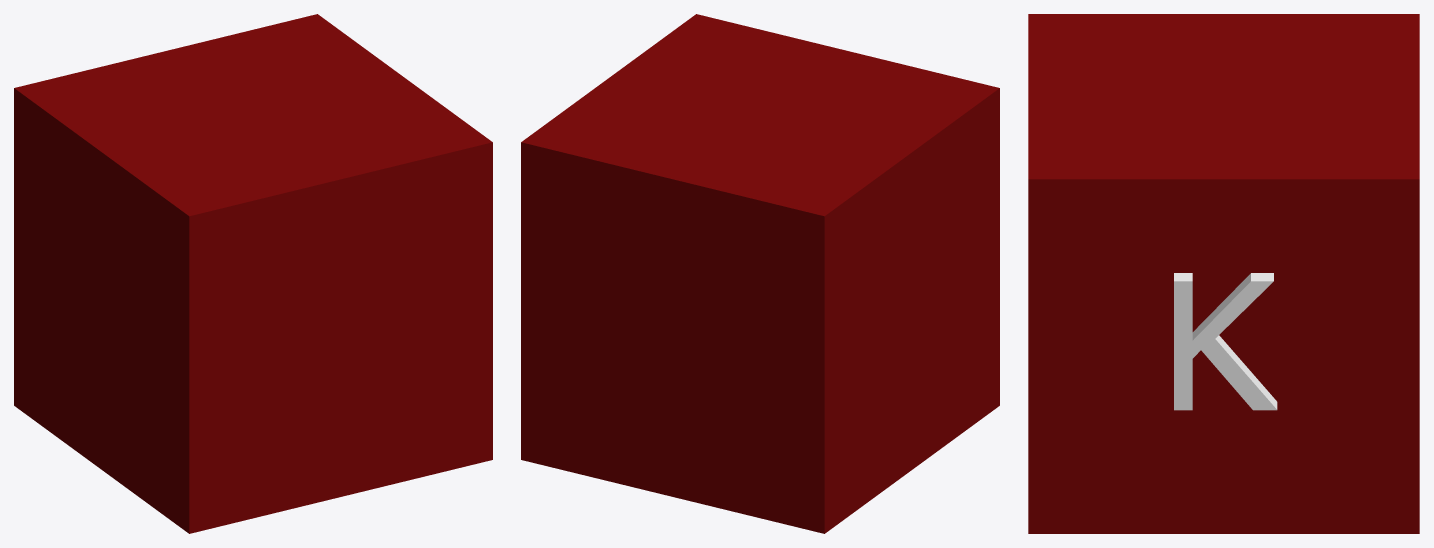
3 renders of one model, left to right at view 1: azimuth 30°, elevation 25°; view 2: azimuth 150°, elevation 25°; view 3: azimuth 270°, elevation 25°, orthographic. The views are drawn at different scales.
Visible parts, largest first — view 1: SketchUp; view 2: SketchUp; view 3: SketchUp, K.
Part boxes in pixels (<box>): SketchUp: <box>14,14,492,533</box>; SketchUp: <box>521,14,999,533</box>; SketchUp: <box>1028,14,1419,533</box>; K: <box>1174,273,1277,410</box>.
Size of the model in its own units: 21 by 20 by 20.
